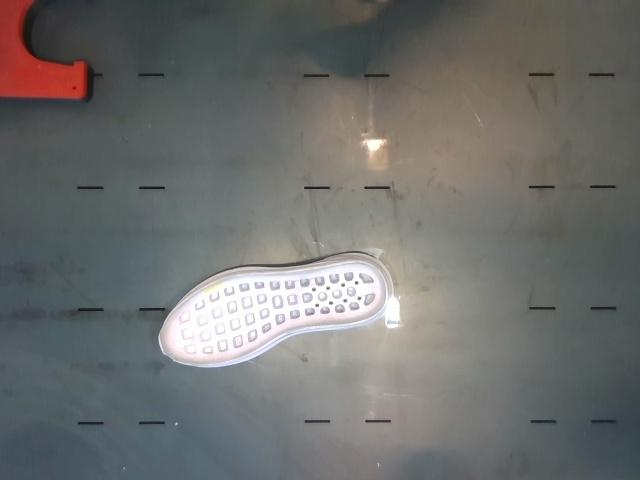shoes: (159, 262, 386, 364)
